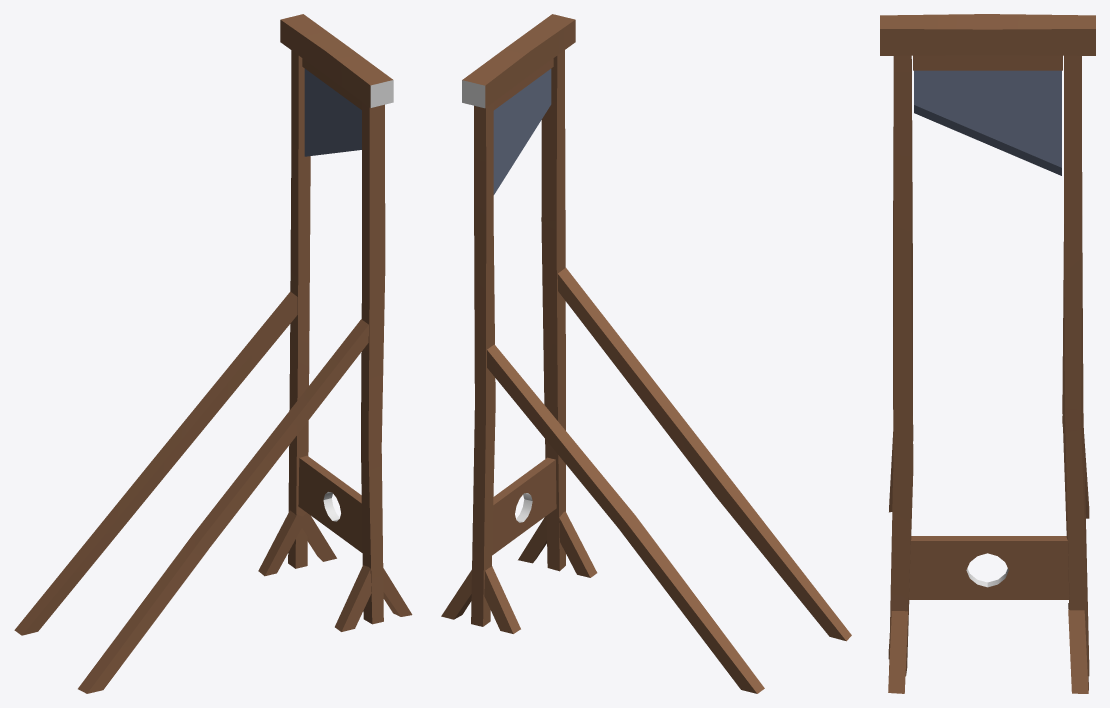
Rendered from Guillotine.fbx.
3 renders of one model, left to right at view 1: azimuth 30°, elevation 25°; view 2: azimuth 150°, elevation 25°; view 3: azimuth 270°, elevation 25°, orthographic. The views are drawn at different scales.
Visible parts, largest first — view 1: Guillotine; view 2: Guillotine; view 3: Guillotine.
Part boxes in pixels (x1,y1,x2,y2): Guillotine: (14, 14, 412, 693); Guillotine: (441, 14, 851, 693); Guillotine: (880, 14, 1095, 693).
Bounding box in the file's own units: 397 × 628 × 188.
